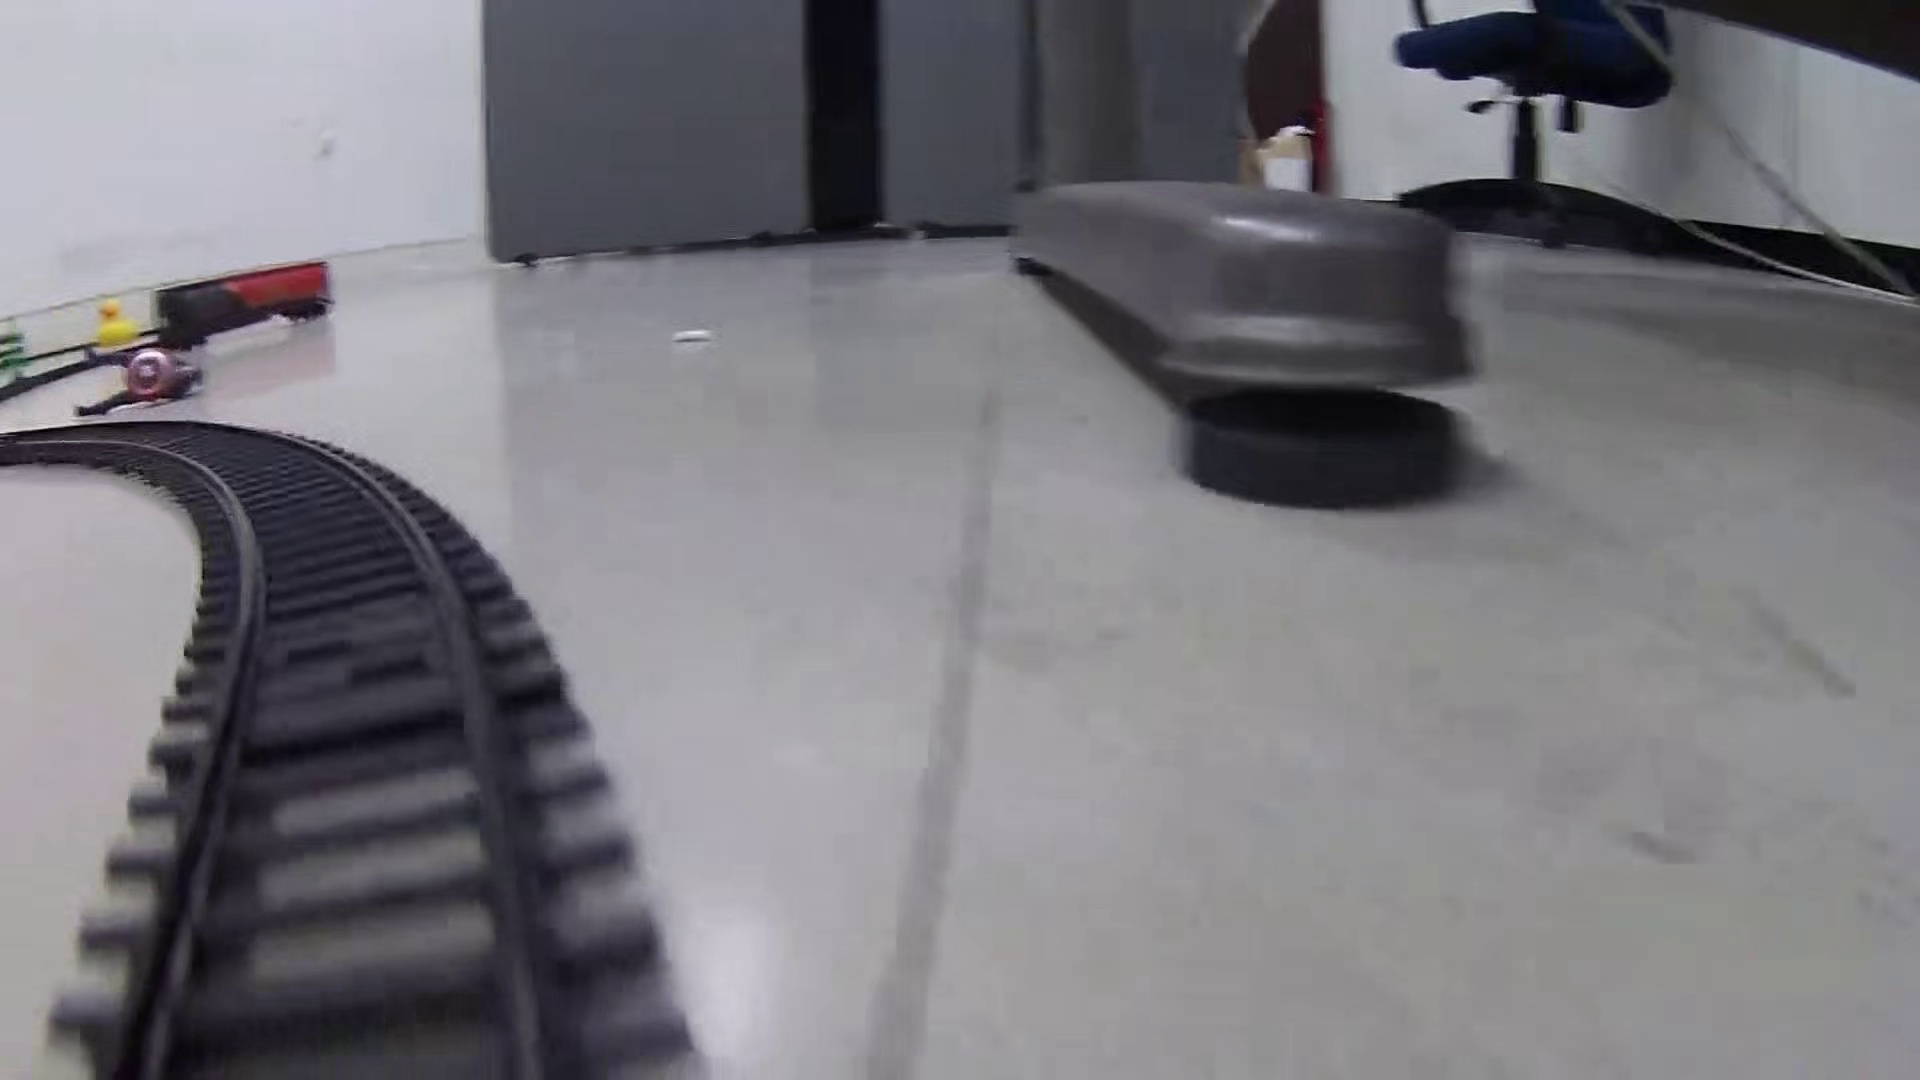people: (68, 338, 210, 422)
